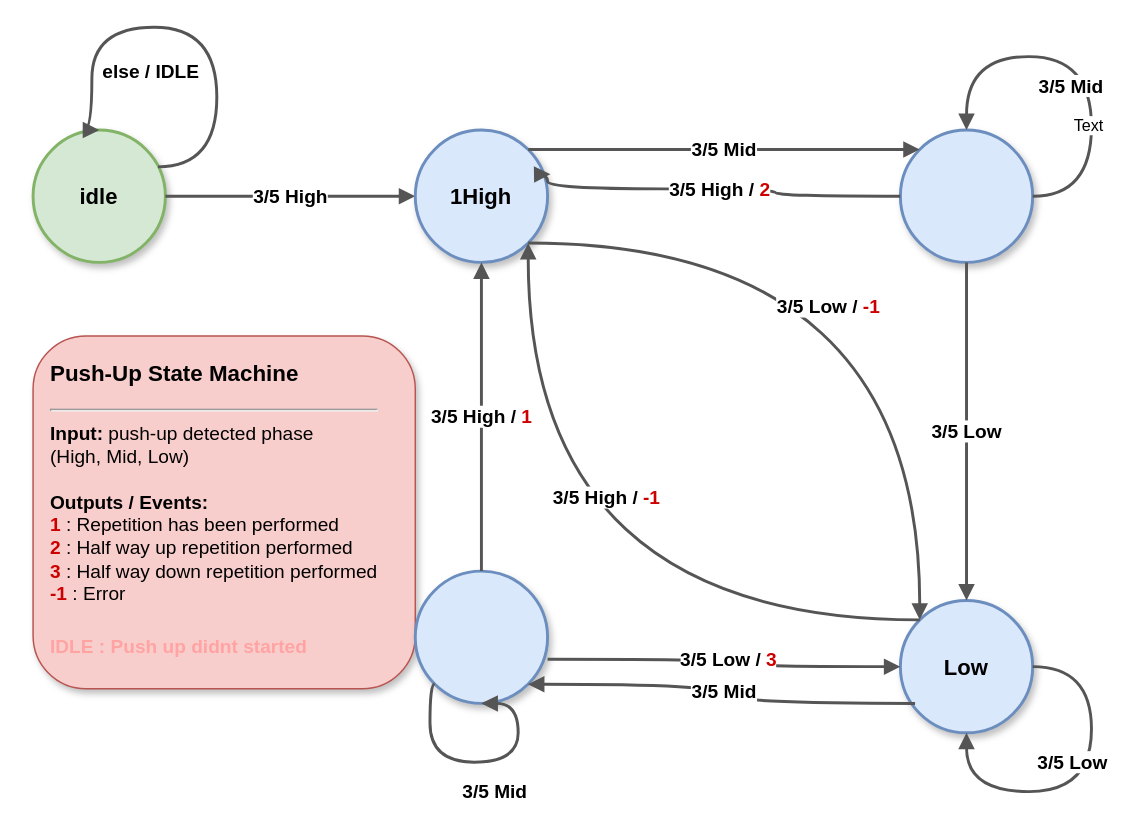
Some shapes in this 1132 by 828 pixel diagram are drawn without their labels. Here are the shapes that lost their labels. From the top down, the centre of each, then its label:
[967,197]: 1Mid
[482,638]: 2Mid
